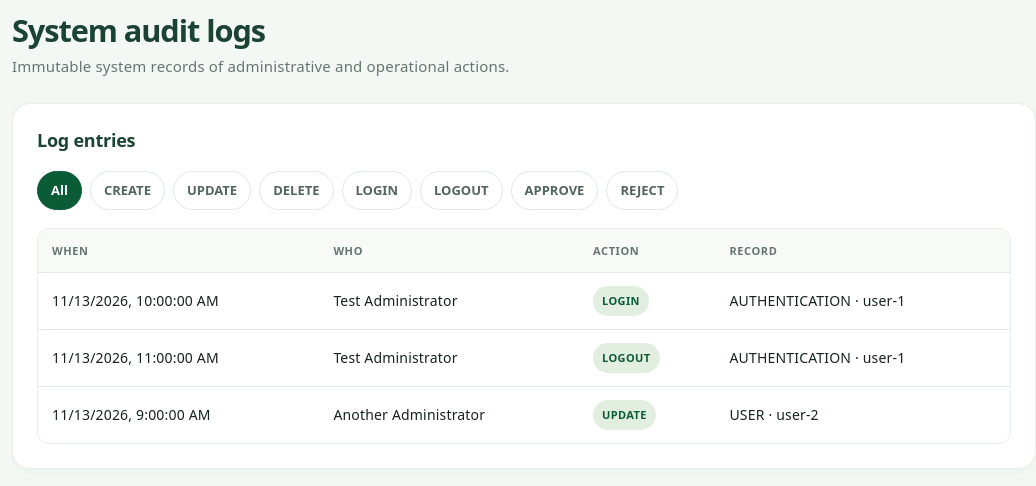
admin system audit logs › renders login, logout, and existing events and filters each action correctly
The width and height of the screenshot is (1036, 486).
Check: the number of rows is 4, box [38,229,1010,273]; [38,273,1010,330]; [38,330,1010,387]; [38,387,1010,443]
Check: the text "Test Administrator" is shown 2 times, box [319,273,579,330]; [319,330,579,387]
Click the button "LOGIN" at (377, 190), box [342,171,412,210]
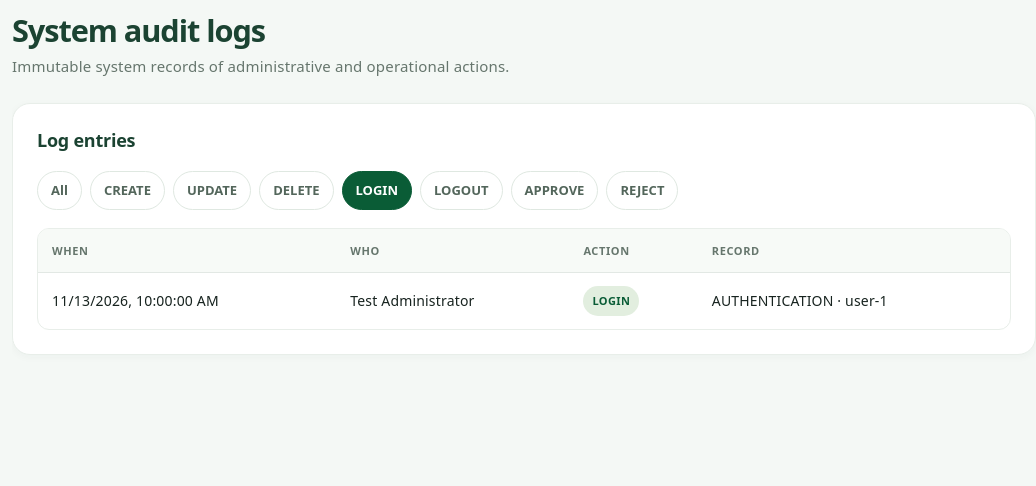
Check: the text "LOGIN" is shown, box [583,286,639,316]
Check: the number of rows is 2, box [38,229,1010,273]; [38,273,1010,329]
Click the button "LOGOUT" at (461, 190), box [420,171,503,210]
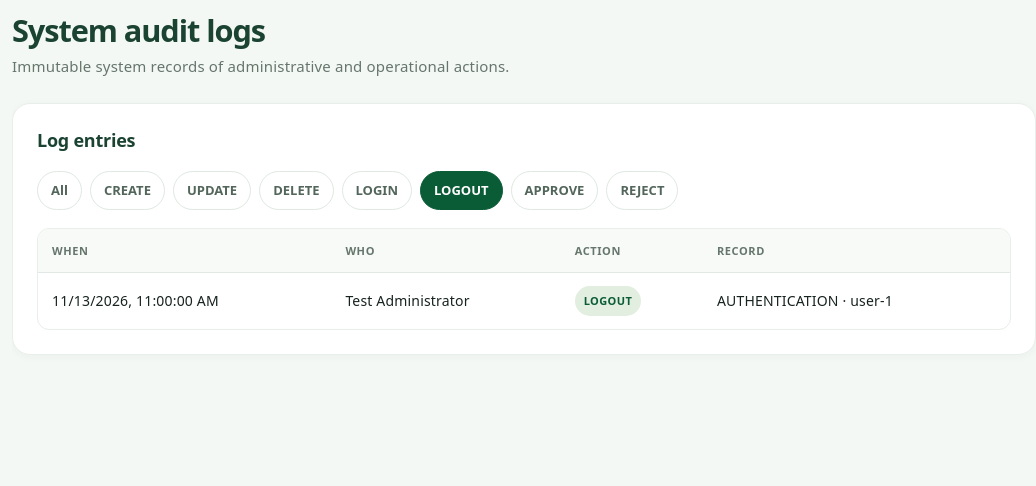
Check: the number of rows is 2, box [38,229,1010,273]; [38,273,1010,329]
Check: the text "LOGOUT" is shown, box [575,286,641,316]
Click the button "UPDATE" at (212, 190), box [173,171,251,210]
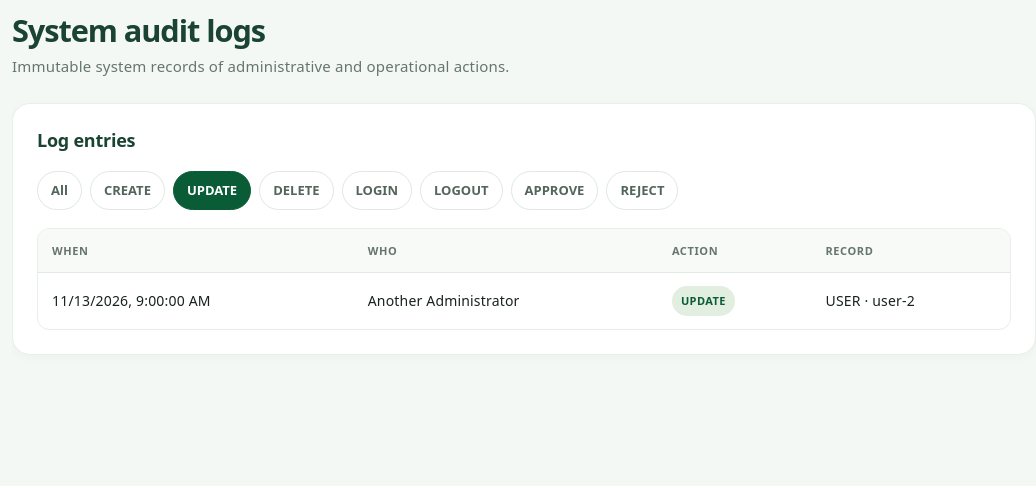
Check: the text "UPDATE" is shown, box [672,286,735,316]
